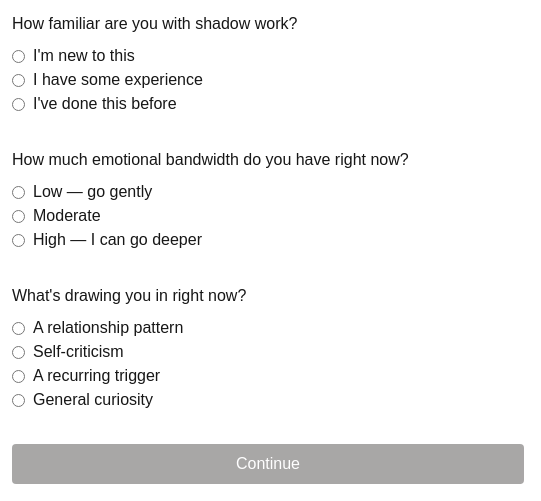
Test: OnboardingForm › disables submit until all three questions are answered
This screenshot has width=541, height=501.
expect the button "Continue" is disabled: met, box left=12, top=444, right=524, bottom=484
Click the radio button labelled "I'm new to this" at (18, 56), box left=12, top=50, right=25, bottom=62
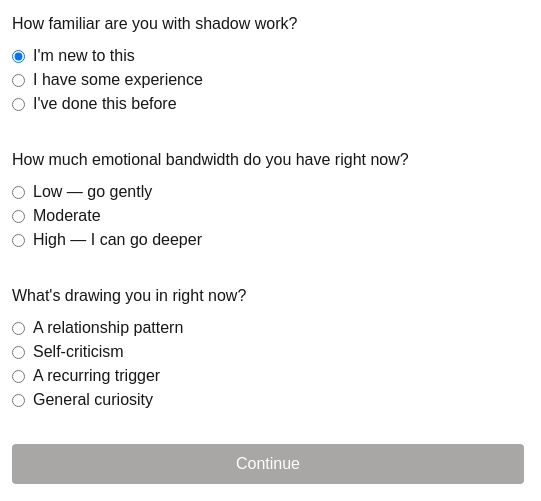
Click the radio button labelled "Moderate" at (18, 216), box left=12, top=210, right=25, bottom=222
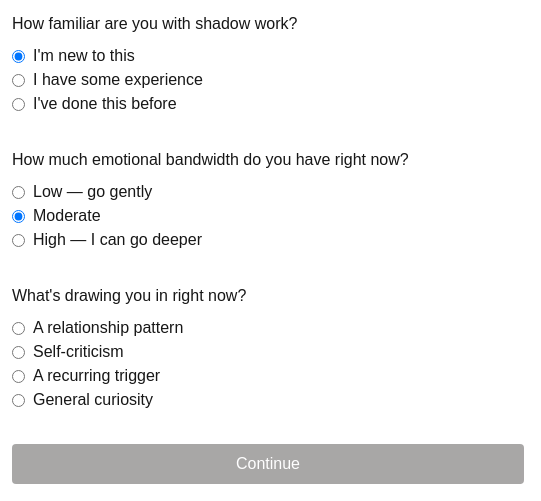
Click the radio button labelled "A recurring trigger" at (18, 376), box left=12, top=370, right=25, bottom=382
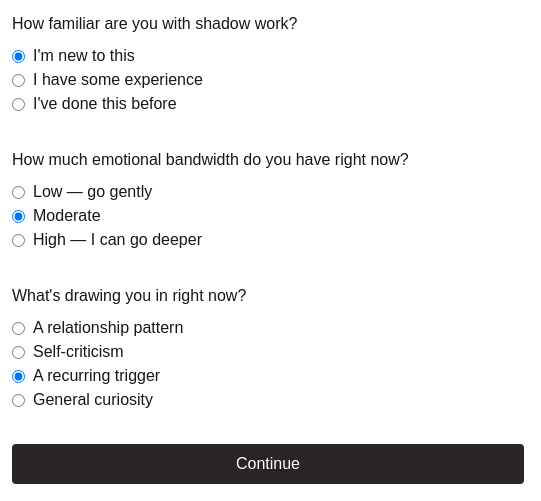
expect the button "Continue" is enabled: met, box left=12, top=444, right=524, bottom=484
